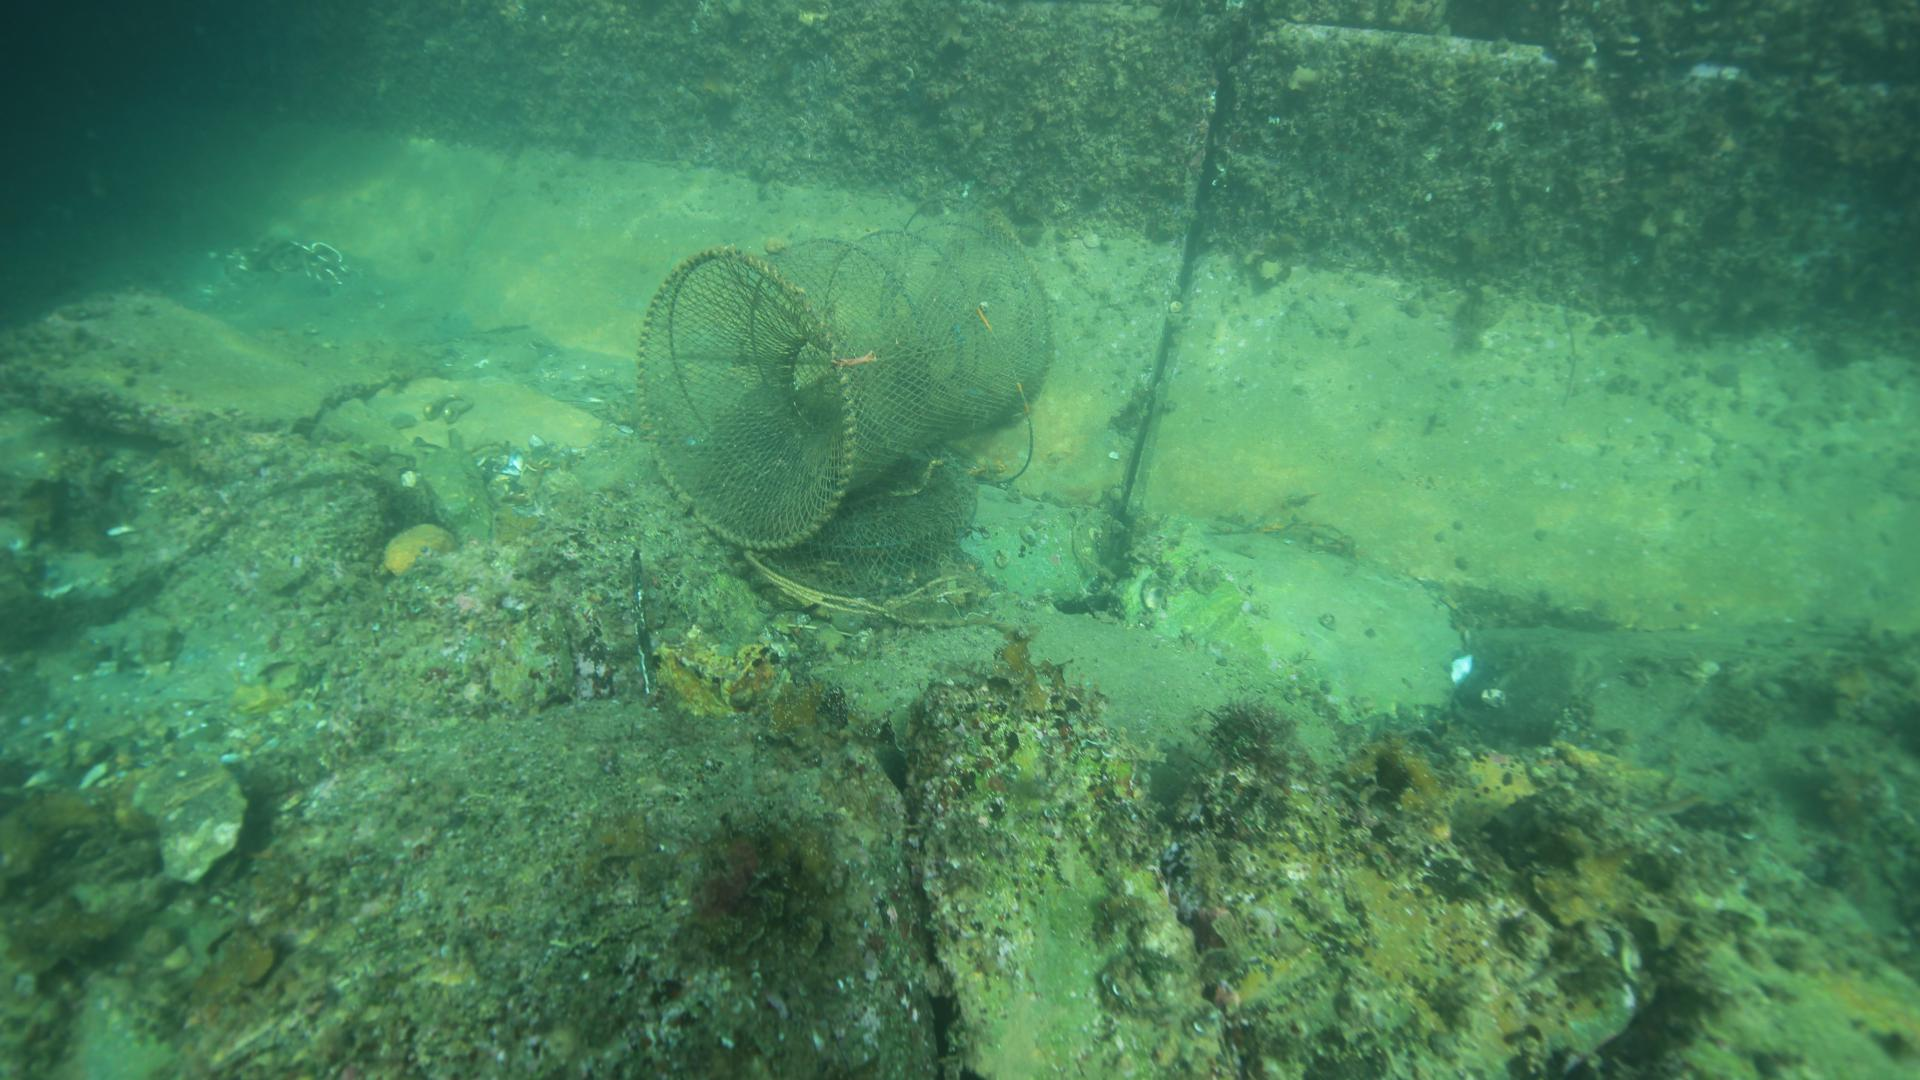spring fish trap: (632, 200, 1062, 555)
